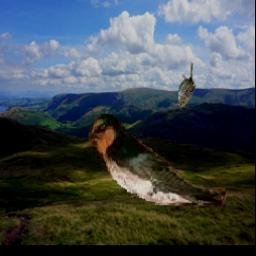Sparrow: (175, 62, 196, 107)
Swallow: (89, 114, 226, 207)
